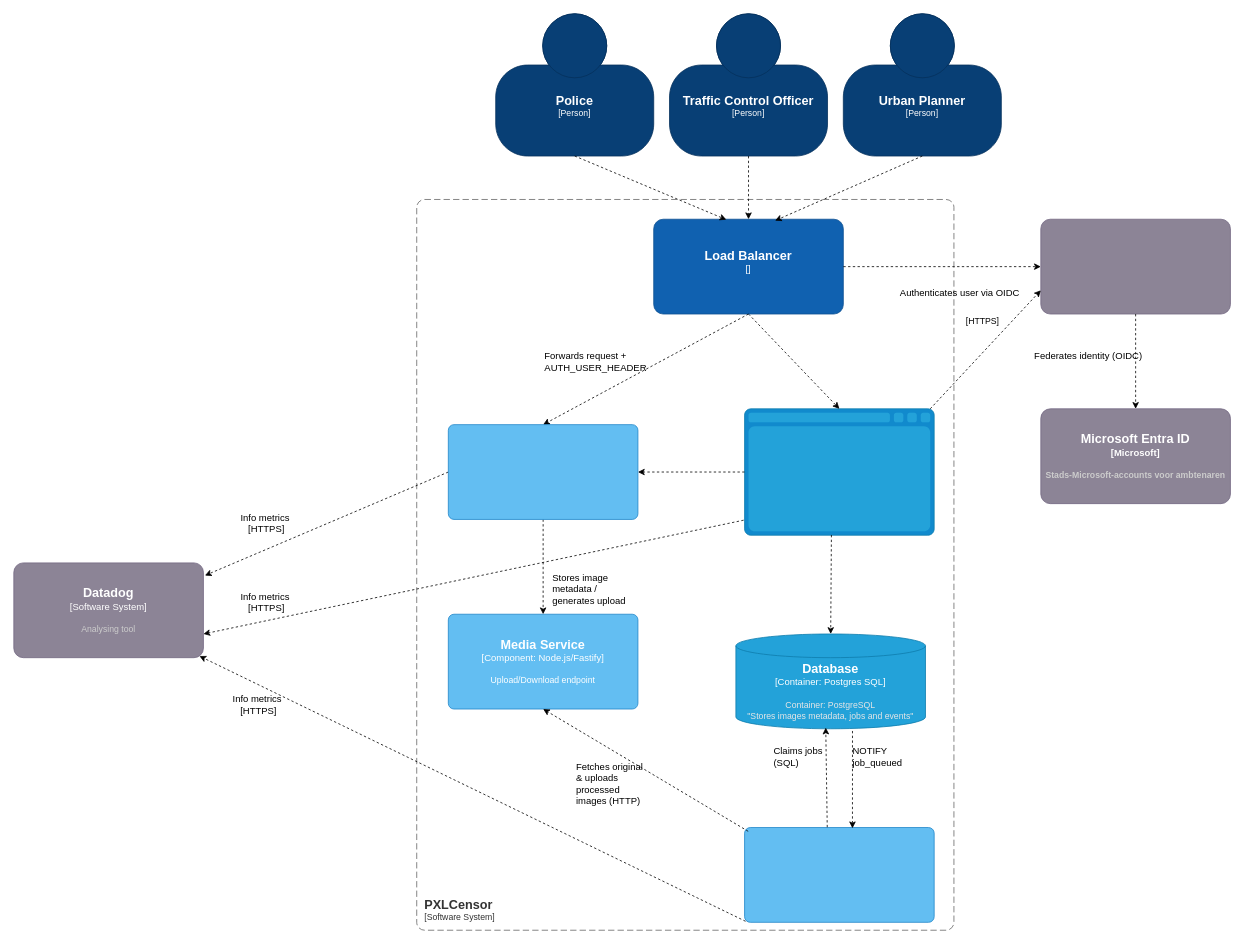
Image size: 1244x944. Some labels were removed from this diagram. Here are the shapes that lost their labels. From the top down, the box of each, then its label:
(1040, 218, 1230, 314): Keycloak [Keycloak 24 · OIDC / OAuth2] Geeft JWT-token terug
(448, 424, 638, 519): API Service [Component: Node.js/Fastify]
(744, 408, 934, 535): Frontend [Container: Vue 3 SPA] Browser
(744, 827, 934, 922): Processor service [Component: Node.js] File Processor adhv Python script
